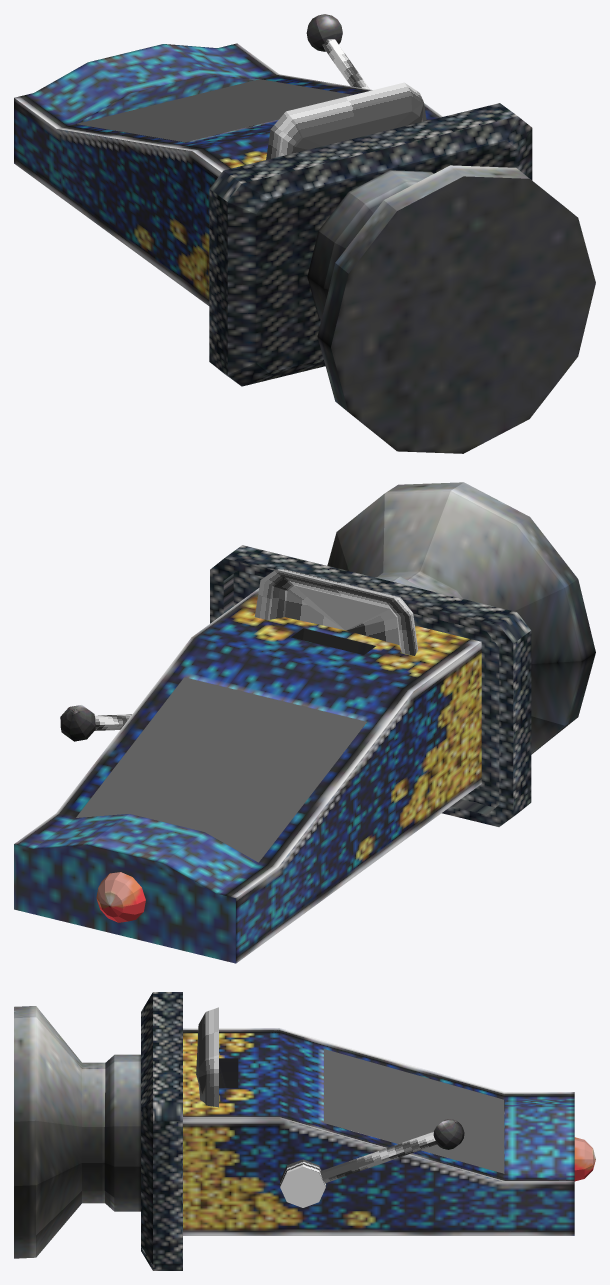
The model's file is SlotMachineBlue 1.fbx.
3 views of the same model, one above another, from view 1: azimuth 30°, elevation 25°; view 2: azimuth 150°, elevation 25°; view 3: azimuth 270°, elevation 25° (orthographic). The views are drawn at different scales.
Parts seen in each view (by area): view 1: Stand, Body, Tray, Glass, Chrome, Handle; view 2: Body, Stand, Glass, Tray, Chrome, Handle; view 3: Body, Stand, Glass, Tray, Chrome, Handle.
Boxes of the visible parts, left/top/right/bottom form: Stand: left=307, top=165, right=595, bottom=453; Body: left=14, top=43, right=442, bottom=305; Tray: left=209, top=103, right=532, bottom=386; Glass: left=77, top=79, right=352, bottom=142; Chrome: left=266, top=39, right=426, bottom=159; Handle: left=306, top=14, right=342, bottom=51; Body: left=14, top=588, right=481, bottom=963; Stand: left=327, top=482, right=595, bottom=754; Glass: left=76, top=677, right=366, bottom=862; Tray: left=210, top=545, right=531, bottom=826; Chrome: left=95, top=569, right=418, bottom=730; Handle: left=60, top=705, right=95, bottom=741; Body: left=183, top=1028, right=595, bottom=1235; Stand: left=14, top=1006, right=140, bottom=1258; Glass: left=324, top=1049, right=504, bottom=1173; Tray: left=141, top=992, right=182, bottom=1270; Chrome: left=196, top=1007, right=436, bottom=1207; Handle: left=433, top=1119, right=464, bottom=1149.
Size of the model in its own units: 2463 by 2151 by 4931.
Materials: 4 (4 with a texture image).
